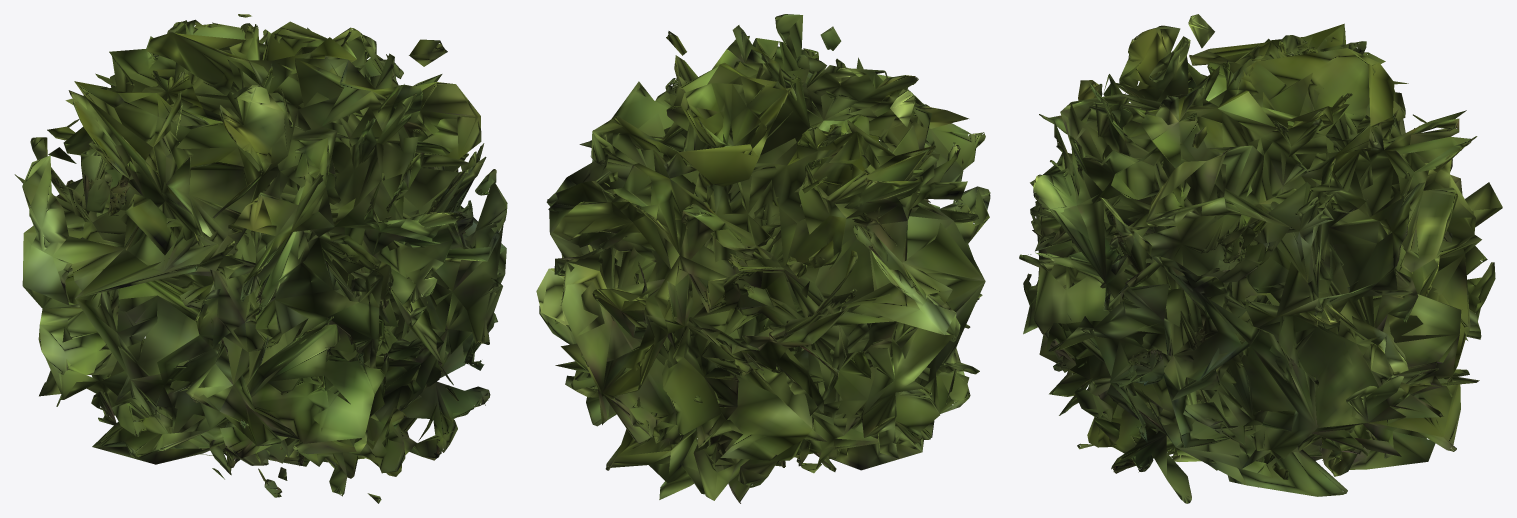
File: AI_WildShrub.fbx
3 renders of one model, left to right at view 1: azimuth 30°, elevation 25°; view 2: azimuth 150°, elevation 25°; view 3: azimuth 270°, elevation 25°, orthographic. The views are drawn at different scales.
Parts seen in each view (by area): view 1: Mesh1; view 2: Mesh1; view 3: Mesh1.
Boxes of the visible parts, x1,y1,x2,y2 form: Mesh1: (14,14,507,503); Mesh1: (536,14,990,503); Mesh1: (1019,14,1502,503).
Size of the model in its own units: 196 by 181 by 196.
1 material, 1 textured.
